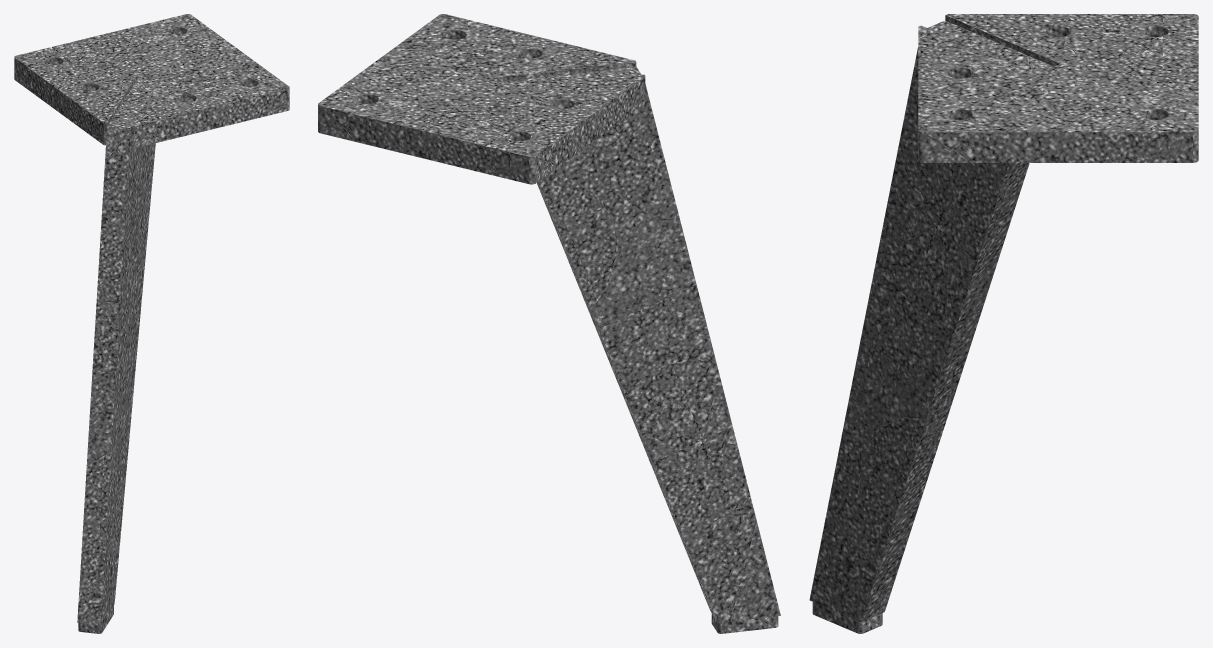
Rendered from Test-FEET.fbx.
3 renders of one model, left to right at view 1: azimuth 30°, elevation 25°; view 2: azimuth 150°, elevation 25°; view 3: azimuth 270°, elevation 25°, orthographic. The views are drawn at different scales.
Parts seen in each view (by area): view 1: NURBS_Fläche_3, NURBS_Fläche_33, NURBS_Fläche_41, NURBS_Fläche_8, NURBS_Fläche_13, NURBS_Fläche_40; view 2: NURBS_Fläche_30, NURBS_Fläche_3, NURBS_Fläche_4, NURBS_Fläche_13, NURBS_Fläche_31, NURBS_Fläche_40, NURBS_Fläche_10, NURBS_Fläche_46; view 3: NURBS_Fläche_41, NURBS_Fläche_3, NURBS_Fläche_31, NURBS_Fläche_6, NURBS_Fläche_40, NURBS_Fläche_11, NURBS_Fläche_50.
Boxes of the visible parts, x1,y1,x2,y2 form: NURBS_Fläche_3: (14,14,289,126); NURBS_Fläche_33: (77,127,130,625); NURBS_Fläche_41: (101,133,155,624); NURBS_Fläche_8: (133,89,287,148); NURBS_Fläche_13: (14,58,103,144); NURBS_Fläche_40: (107,79,158,129); NURBS_Fläche_30: (539,84,780,622); NURBS_Fläche_3: (318,14,644,157); NURBS_Fläche_4: (320,106,528,183); NURBS_Fläche_13: (536,76,645,182); NURBS_Fläche_31: (537,181,717,621); NURBS_Fläche_40: (499,66,641,90); NURBS_Fläche_10: (496,62,636,81); NURBS_Fläche_46: (722,616,775,633); NURBS_Fläche_41: (809,47,1008,621); NURBS_Fläche_3: (918,14,1198,132); NURBS_Fläche_31: (861,163,1029,621); NURBS_Fläche_6: (924,132,1192,162); NURBS_Fläche_40: (928,20,1053,73); NURBS_Fläche_11: (945,15,1059,66); NURBS_Fläche_50: (814,602,857,633).
Size of the model in its own units: 139 by 250 by 139.
Materials: 1 (1 with a texture image).
